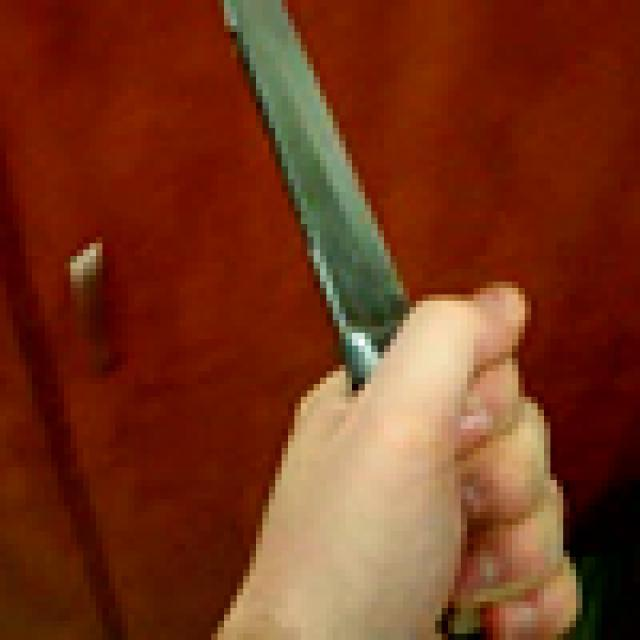Knife: (205, 13, 538, 621)
